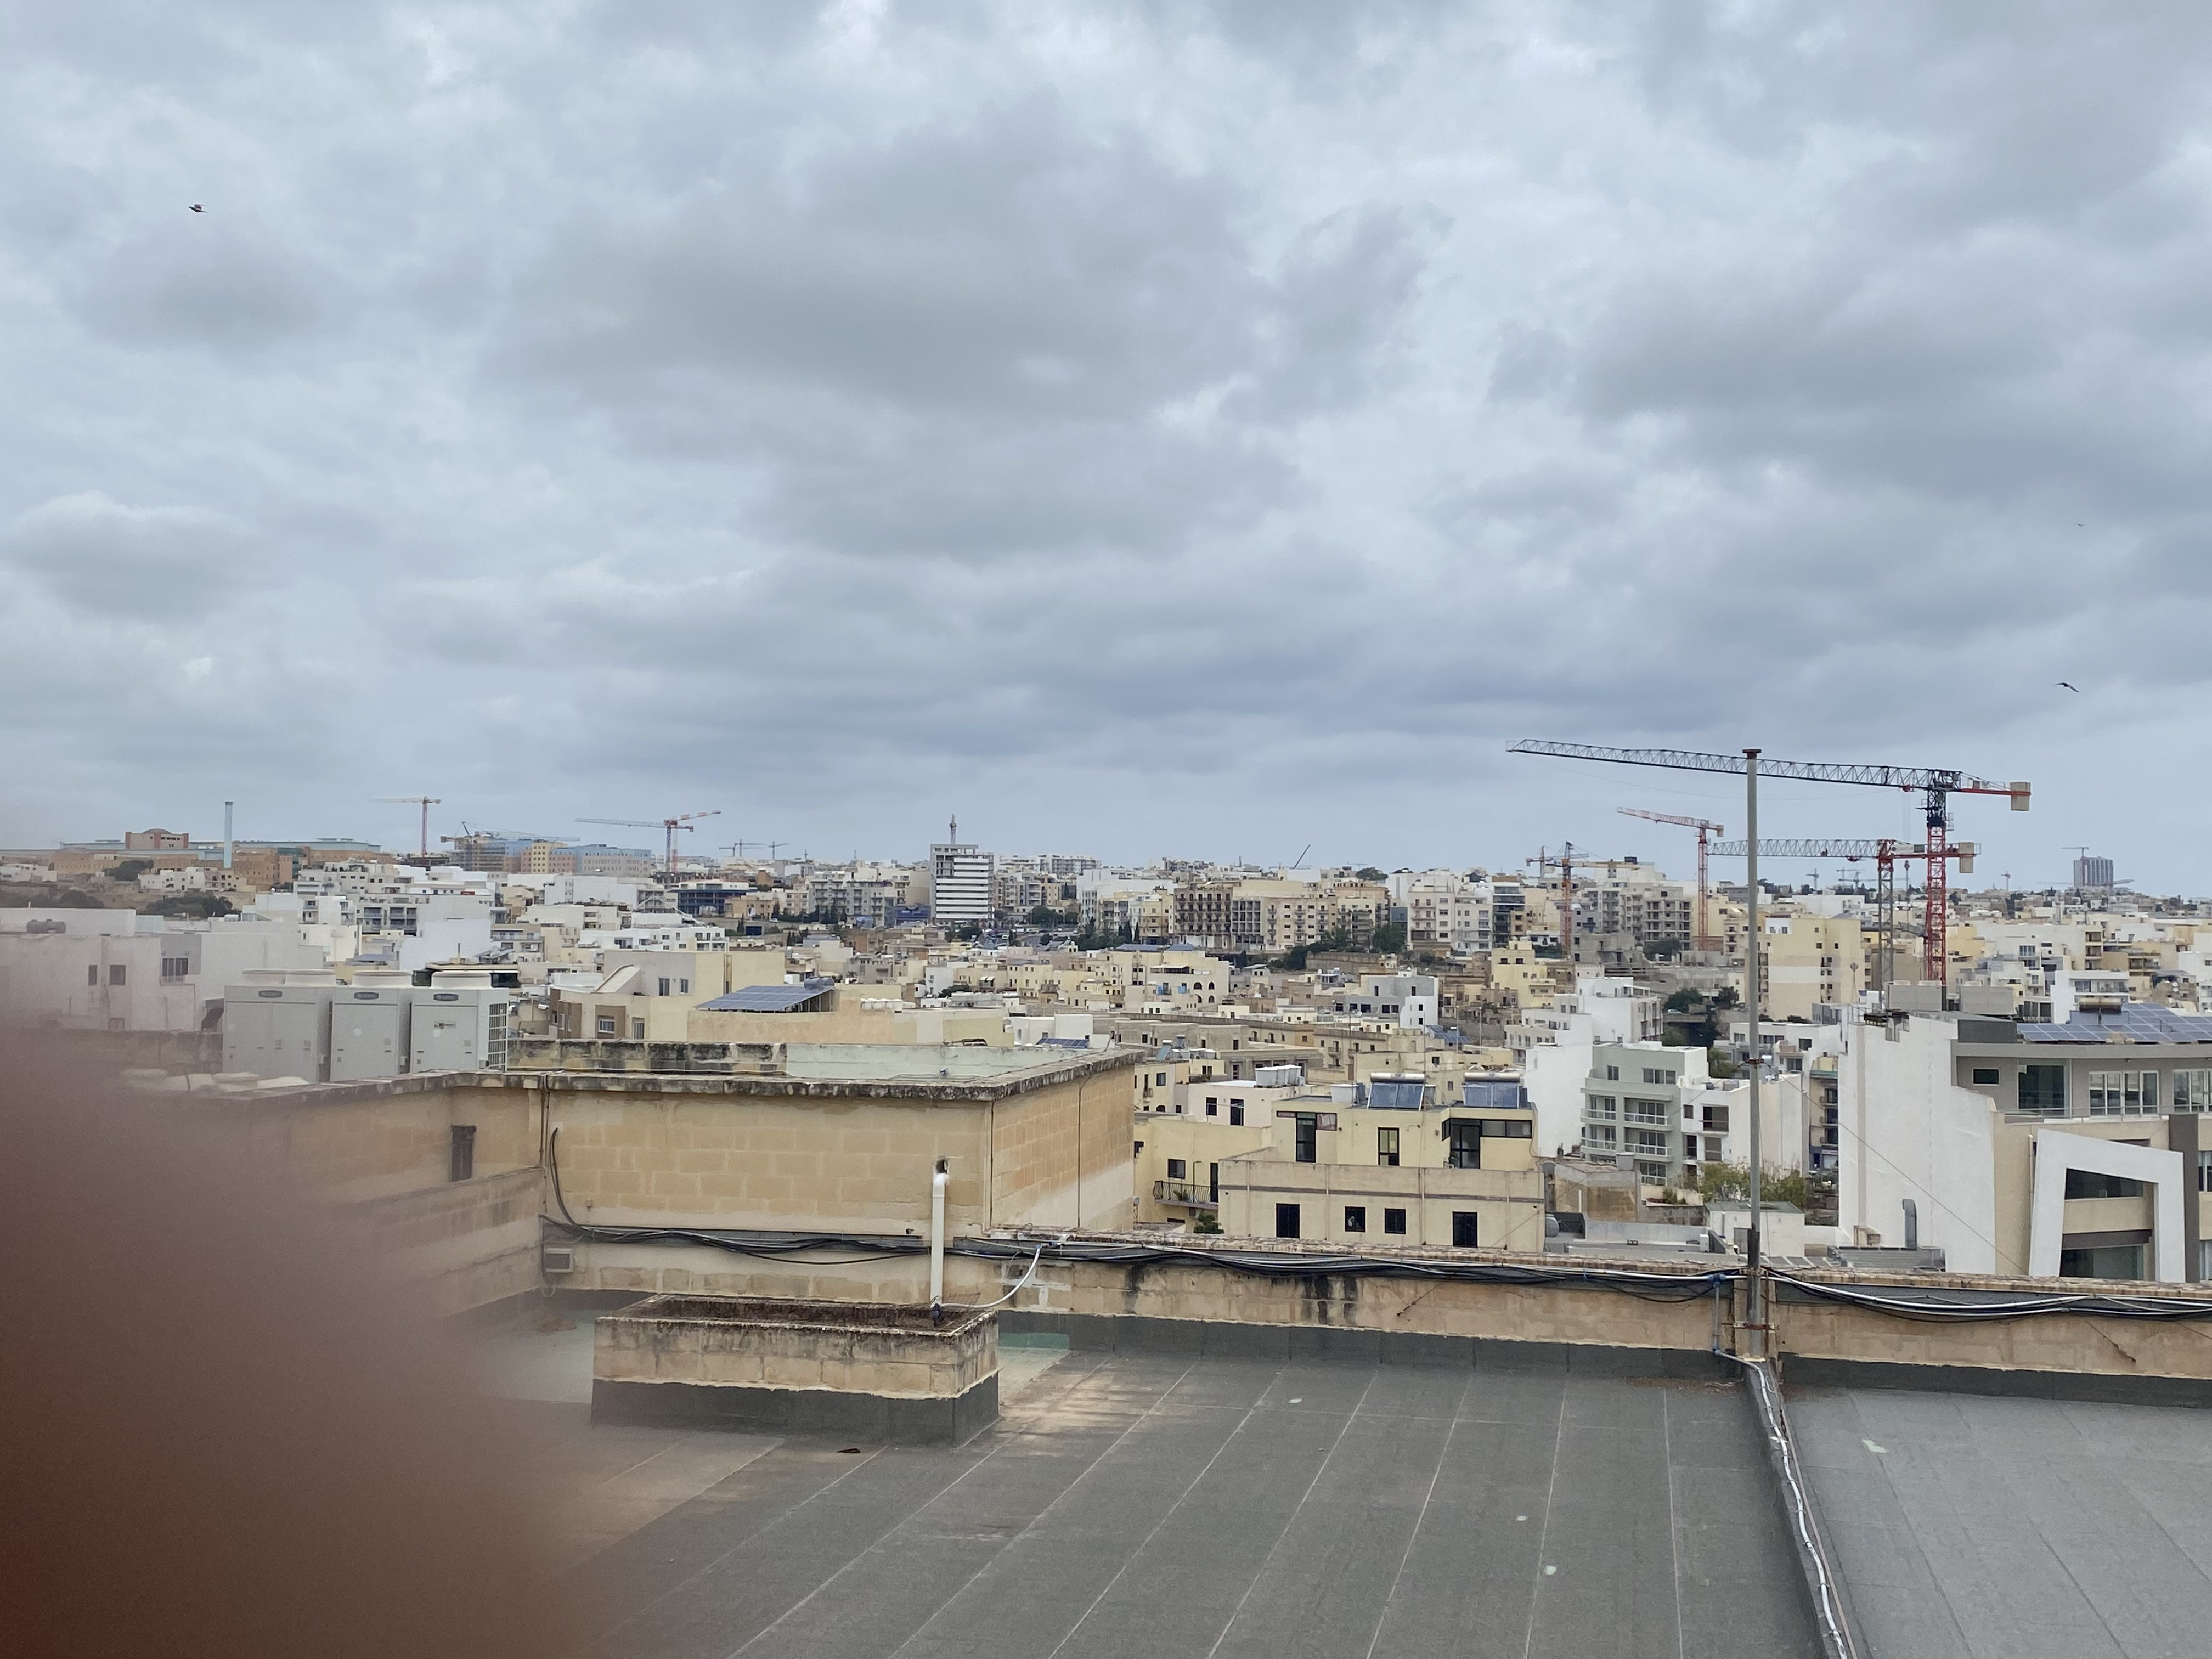crane: (1501, 690, 2065, 941), (1695, 821, 2042, 906), (1585, 788, 1748, 873)
